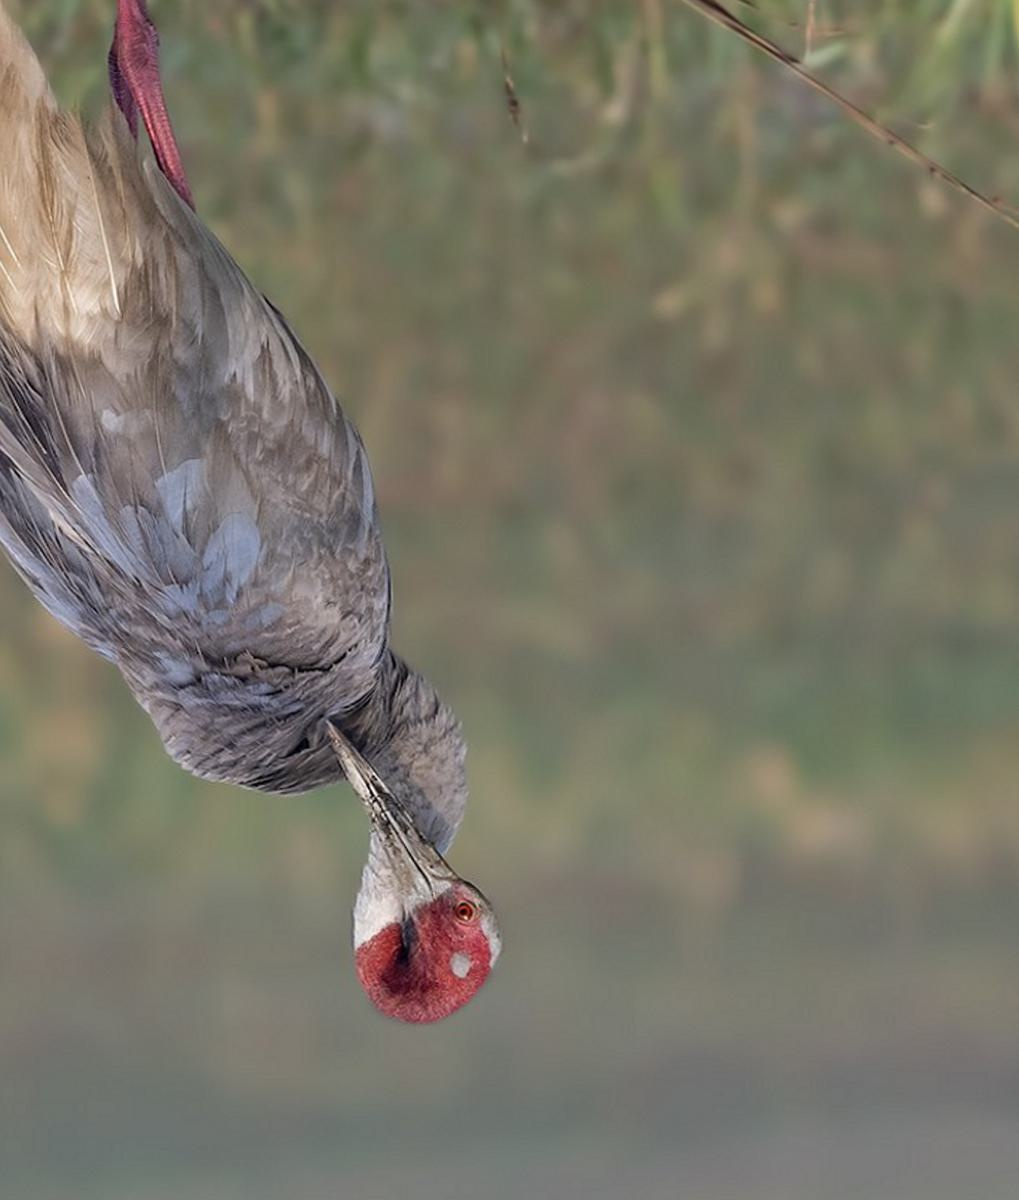crane: (1, 1, 530, 1030)
